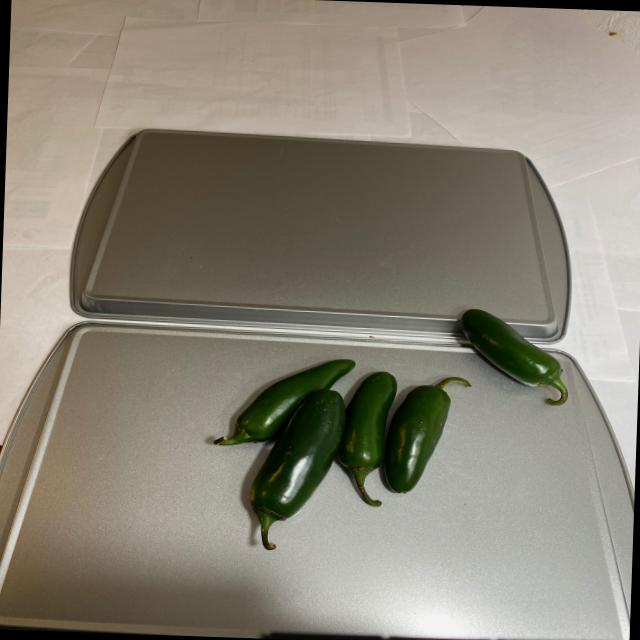chilli: (197, 303, 574, 565)
